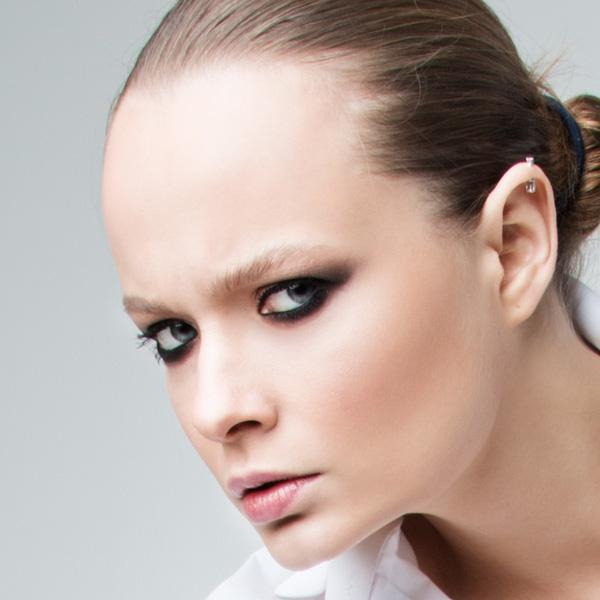Eyes: (254, 266, 338, 326), (141, 310, 205, 369)
